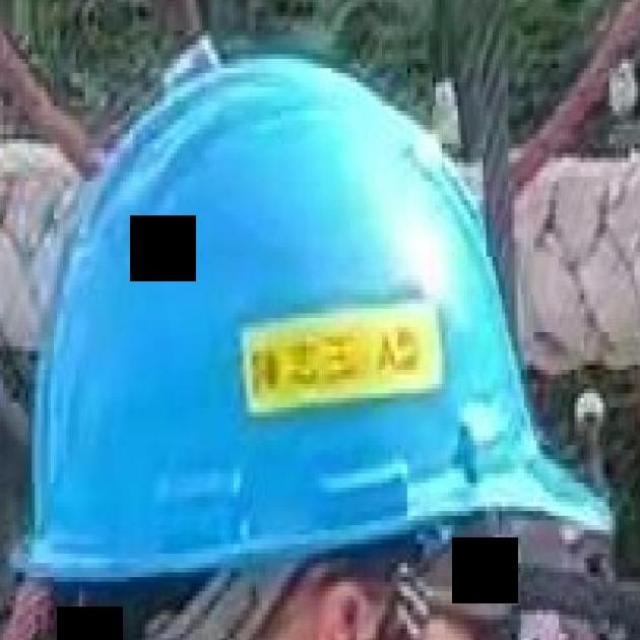blue helmet: (58, 77, 582, 554)
